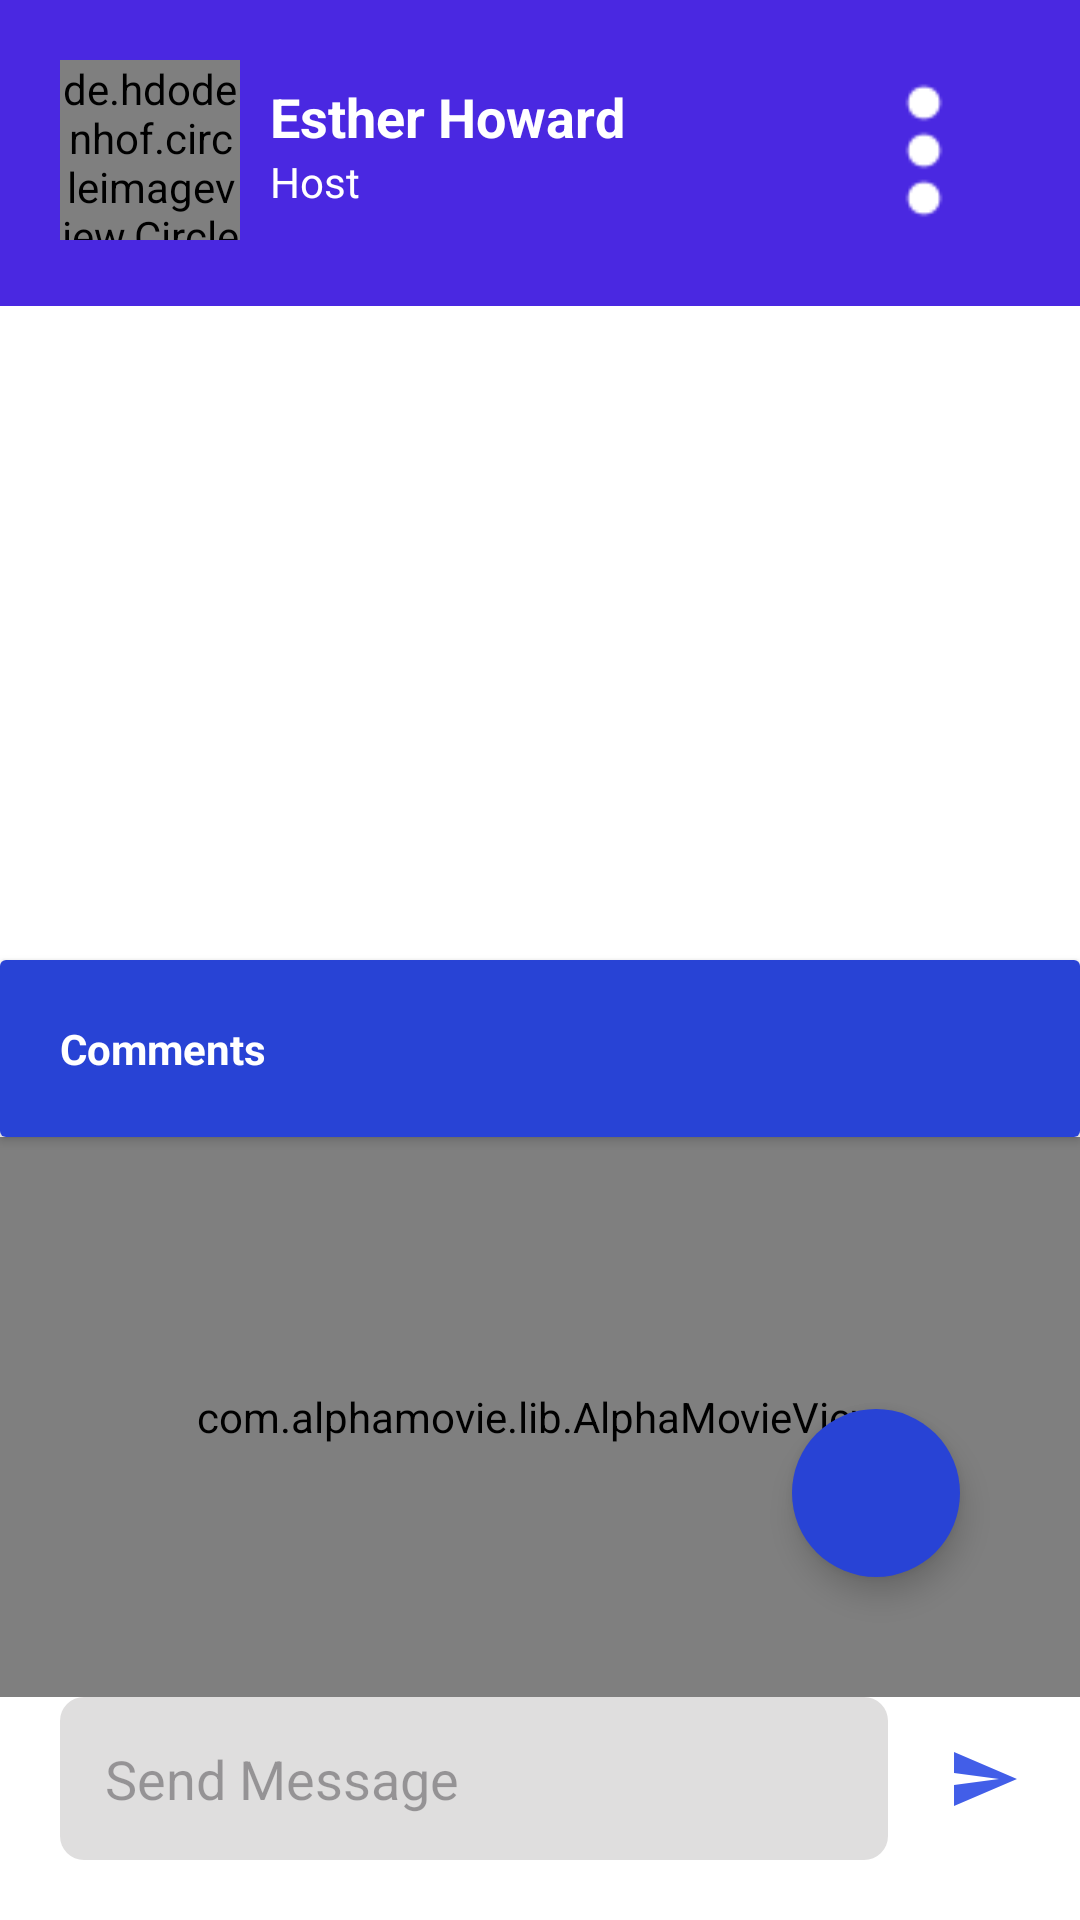

Where icons sit on this 1080×1920 app screen, as (x1, y1, x2, y2):
menu: (906, 85, 942, 216)
